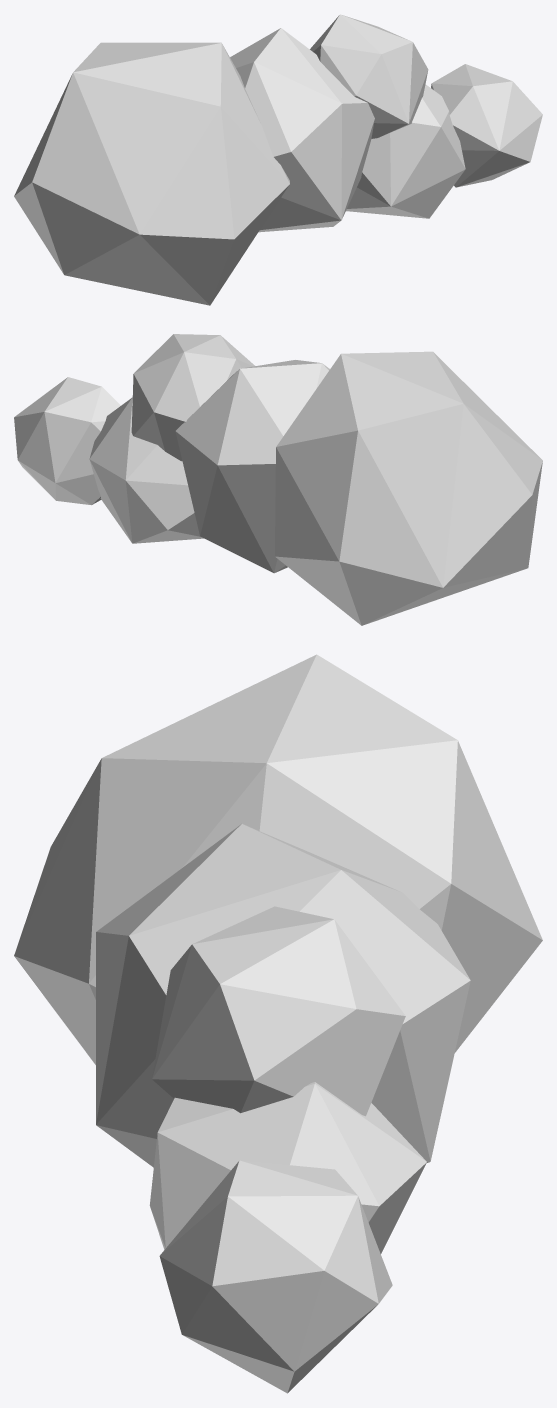
The model's file is cloud_14.fbx.
3 renders of one model, top to bottom at view 1: azimuth 30°, elevation 25°; view 2: azimuth 150°, elevation 25°; view 3: azimuth 270°, elevation 25°, orthographic. The views are drawn at different scales.
Visible parts, largest first — view 1: cloud_14; view 2: cloud_14; view 3: cloud_14.
Boxes of the visible parts, <box> form: cloud_14: <box>14,14,542,305</box>; cloud_14: <box>14,334,542,625</box>; cloud_14: <box>14,654,542,1393</box>.
Bounding box in the file's own units: 616 × 279 × 309.
